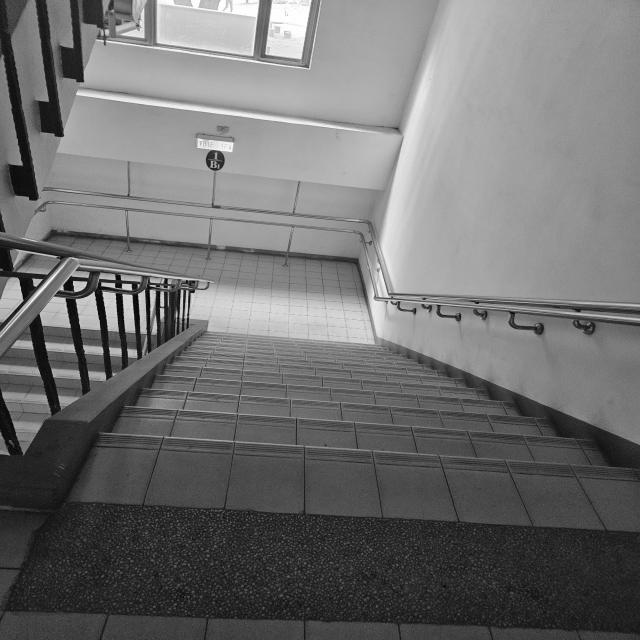Road-Object: (0, 503, 638, 640), (125, 244, 373, 344)
floor: (69, 330, 640, 536)
